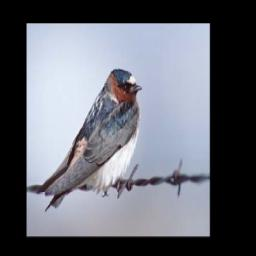Swallow: (36, 68, 141, 215)
